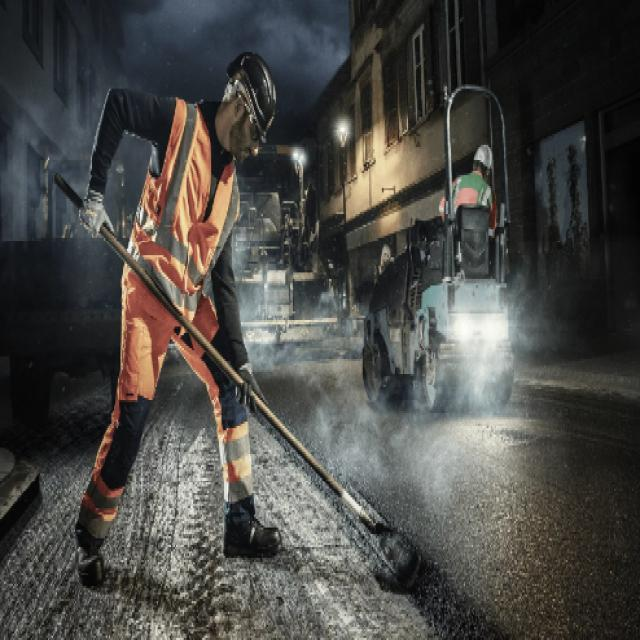boots: (71, 500, 286, 590)
helmet: (223, 41, 280, 167), (474, 138, 496, 178)
vest: (122, 95, 245, 331), (449, 170, 490, 250)
